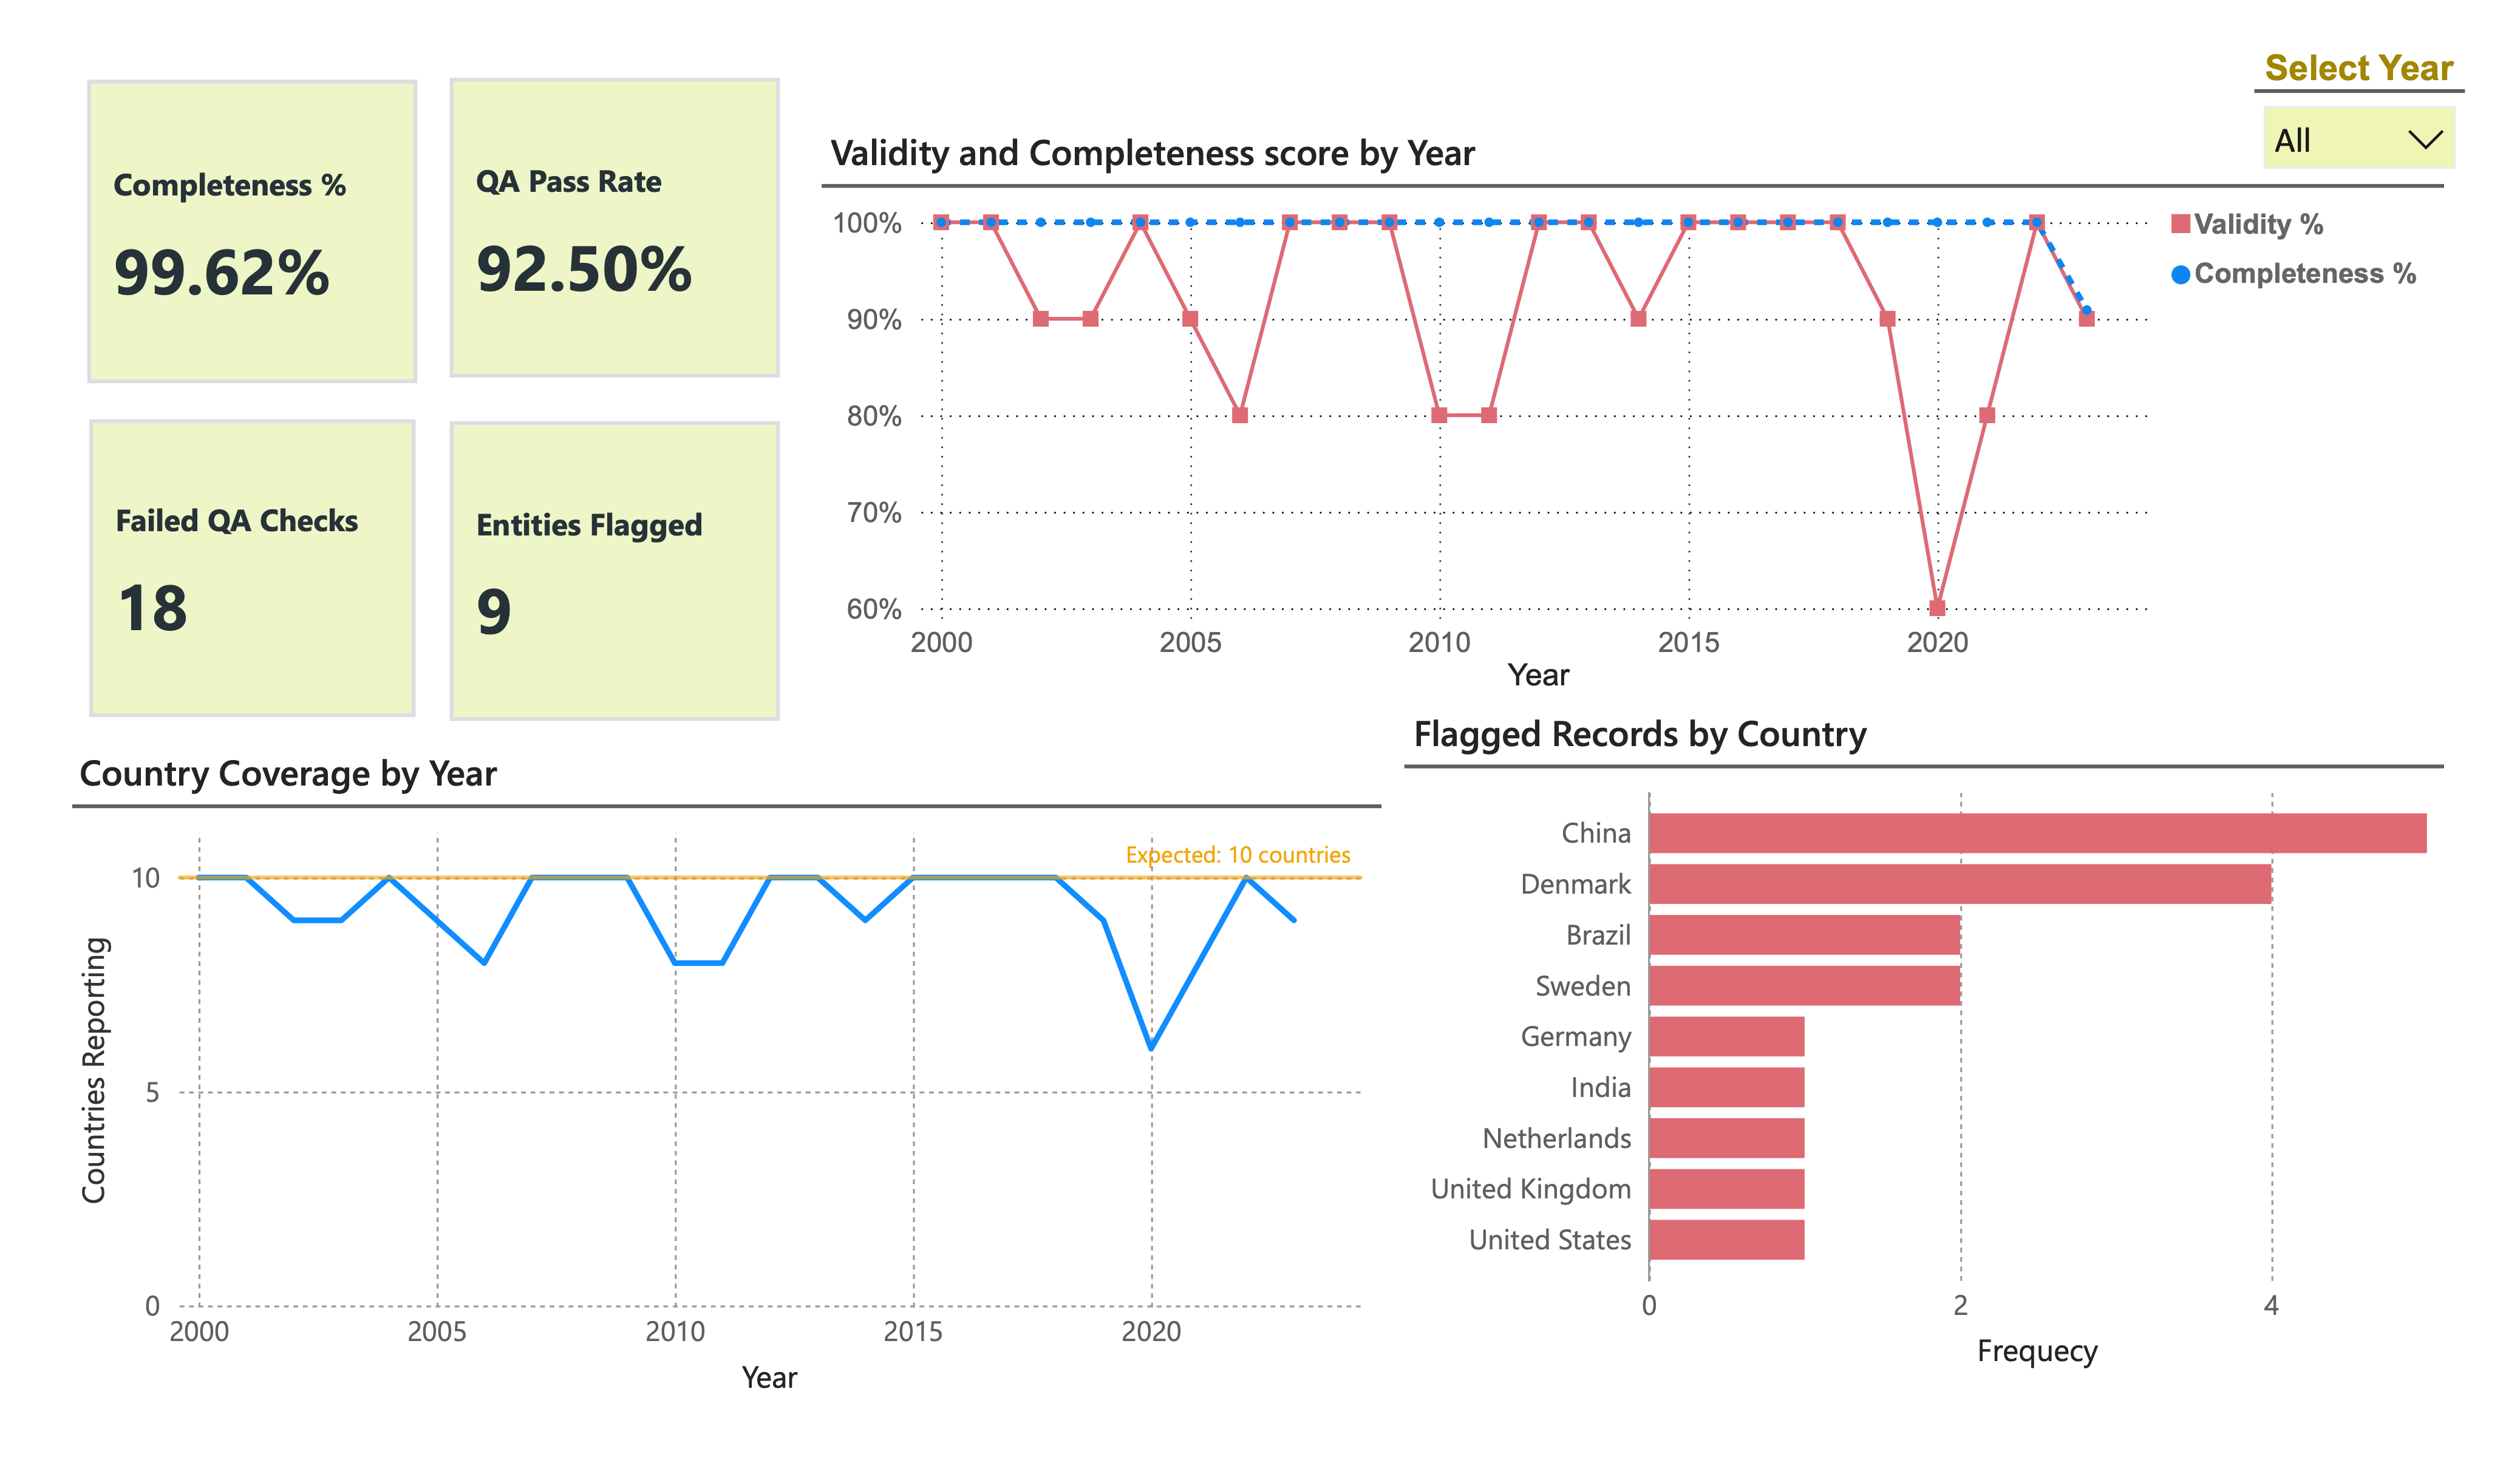

This screenshot's page, from the dashboard's own definition file:
{"tool":"powerbi","page":{"name":"Data Quality Monitoring","canvas":[1280,720],"ordinal":2},"visuals":[{"type":"cardVisual","title":"Total CO₂ (Mt CO₂)","fields":{"Data":["_Measure.Completeness %"]},"box":[4.7,1.3,207.6,193.5],"z":0,"group":"g1"},{"type":"lineChart","title":"Validity and Completeness score by Year","fields":{"Category":["DIM_DATE.year"],"Y":["_Measure.Validity %","_Measure.Completeness %"]},"box":[408.6,42.9,855.7,302.9],"z":0},{"type":"cardVisual","fields":{"Data":["_Measure.Failed QA Checks"]},"box":[6.1,179.8,205.7,191.7],"z":1000,"group":"g1"},{"type":"barChart","title":"Flagged Records by Country","fields":{"Category":["DIM_ENTITY.entity_name"],"Y":["_Measure.Failed QA Checks"]},"box":[715.7,348.6,548.6,354.3],"z":1000},{"type":"slicer","title":"Select Year","fields":{"Values":["DIM_DATE.year"]},"box":[1158.6,1.4,121.4,84.3],"z":2000},{"type":"cardVisual","fields":{"Data":["_Measure.Entities with Data Issues"]},"box":[195.6,180.6,207.6,192.2],"z":2000,"group":"g1"},{"type":"group","id":"g1","title":"Group 1","box":[4.7,0,398.6,371.4],"z":3000},{"type":"cardVisual","fields":{"Data":["_Measure.Validity %"]},"box":[196.1,0,207.1,191.7],"z":3000,"group":"g1"},{"type":"lineChart","title":"Country Coverage by Year","fields":{"Category":["DIM_DATE.year"],"Y":["_Measure.Countries Reporting"]},"box":[14.3,370,690,347.1],"z":4000}]}

Visuals, with their boxes on the page's 1280x720 design canvas (x1, y1, x2, y2). These are canvas units, not pixel positions in the 2520x1457 screenshot, which may show the page scaled, cropped or inside an application window:
"Total CO₂ (Mt CO₂)" cardVisual: crop(5, 1, 212, 195)
"Validity and Completeness score by Year" lineChart: crop(409, 43, 1264, 346)
cardVisual - _Measure.Failed QA Checks: crop(6, 180, 212, 372)
"Flagged Records by Country" barChart: crop(716, 349, 1264, 703)
"Select Year" slicer: crop(1159, 1, 1280, 86)
cardVisual - _Measure.Entities with Data Issues: crop(196, 181, 403, 373)
"Group 1" group: crop(5, 0, 403, 371)
cardVisual - _Measure.Validity %: crop(196, 0, 403, 192)
"Country Coverage by Year" lineChart: crop(14, 370, 704, 717)
